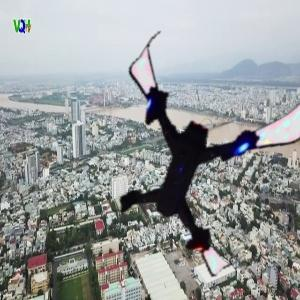drone: (85, 40, 299, 254)
